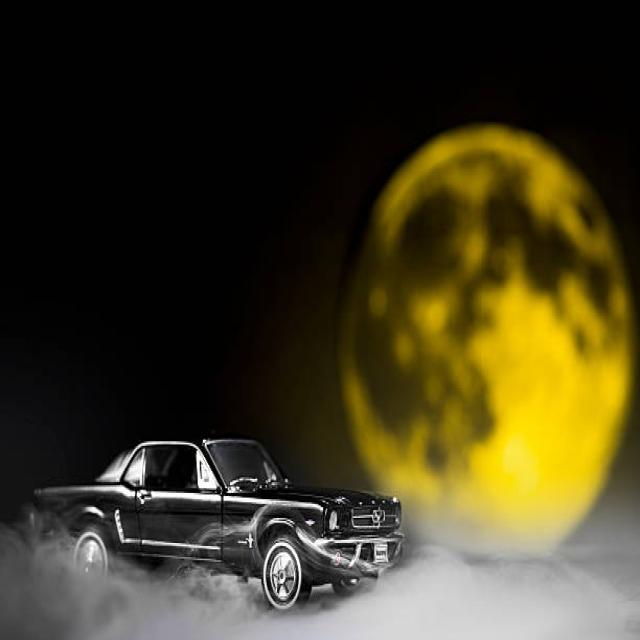Car: (26, 435, 406, 612)
